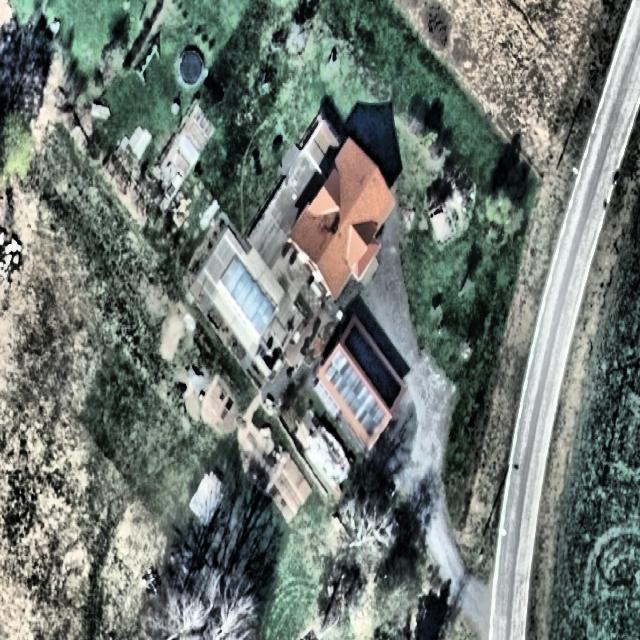roof_pv: (323, 315, 406, 442)
